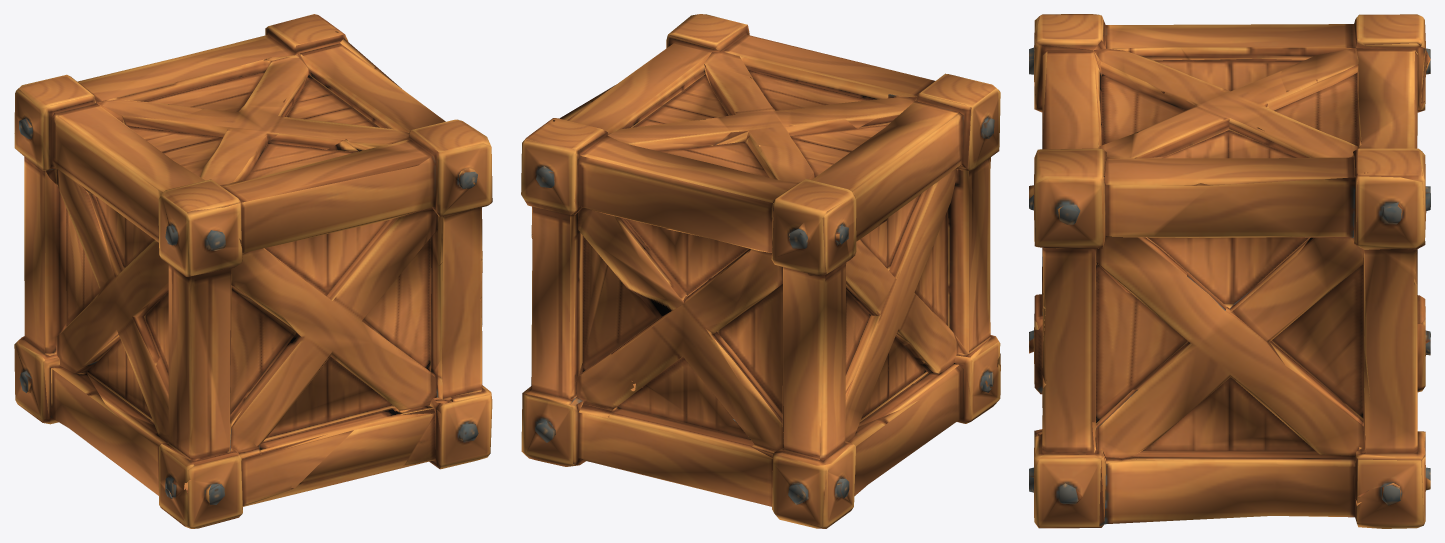
Rendered from crate-stylized.glb.
The picture shows the model from 3 angles, left to right: view 1: azimuth 30°, elevation 25°; view 2: azimuth 150°, elevation 25°; view 3: azimuth 270°, elevation 25°; orthographic projection. The views are drawn at different scales.
Parts seen in each view (by area): view 1: Mesh1.0; view 2: Mesh1.0; view 3: Mesh1.0.
Part boxes in pixels (<box>): Mesh1.0: <box>14,14,492,528</box>; Mesh1.0: <box>521,14,1000,528</box>; Mesh1.0: <box>1029,14,1430,528</box>.
Size of the model in its own units: 2 by 1.94 by 1.99.
Materials: 1 (1 with a texture image).
